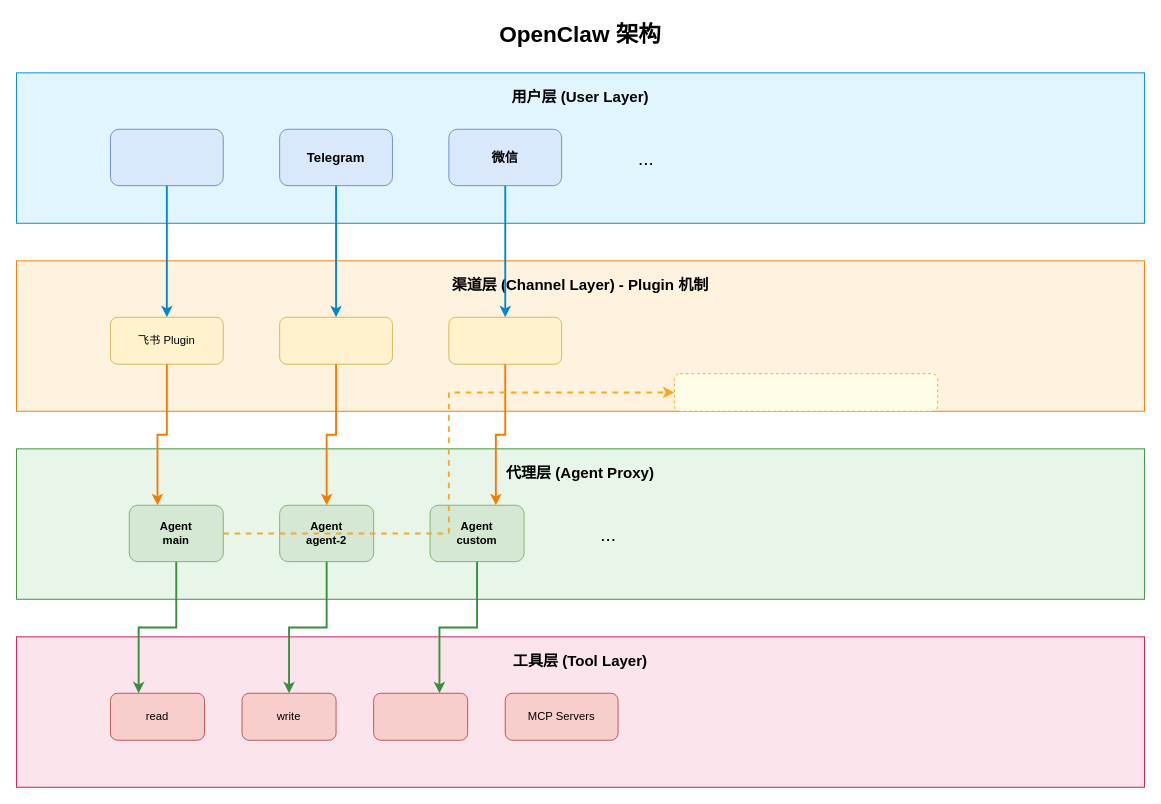
This 1161x804 diagram has some shape labels left out. Each missing label, with the box of its shape:
bash: (373, 692, 468, 740)
Skills 技能模块可插拔，MCP 工具协议可扩展: (674, 373, 938, 411)
Telegram Plugin: (279, 316, 392, 364)
微信 Plugin: (448, 316, 562, 364)
飞书: (110, 128, 223, 186)
